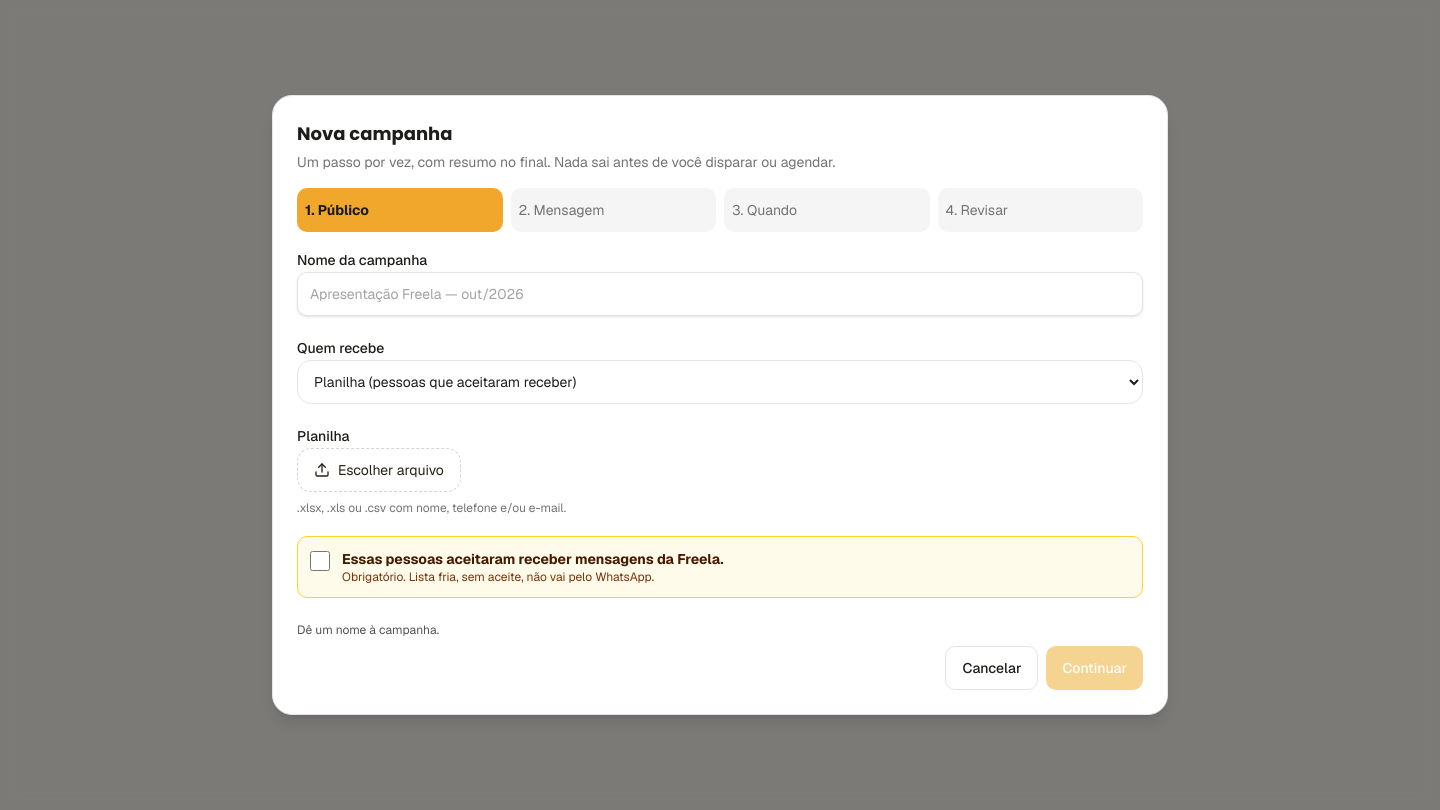
Test: CampaignWizard › planilha: não segue sem a lista conferida e sem a caixa de aceite
This screenshot has width=1440, height=810.
Step 1. Type "Lista feira" into the field labelled "Nome da campanha" → (720, 294), box left=297, top=272, right=1143, bottom=316
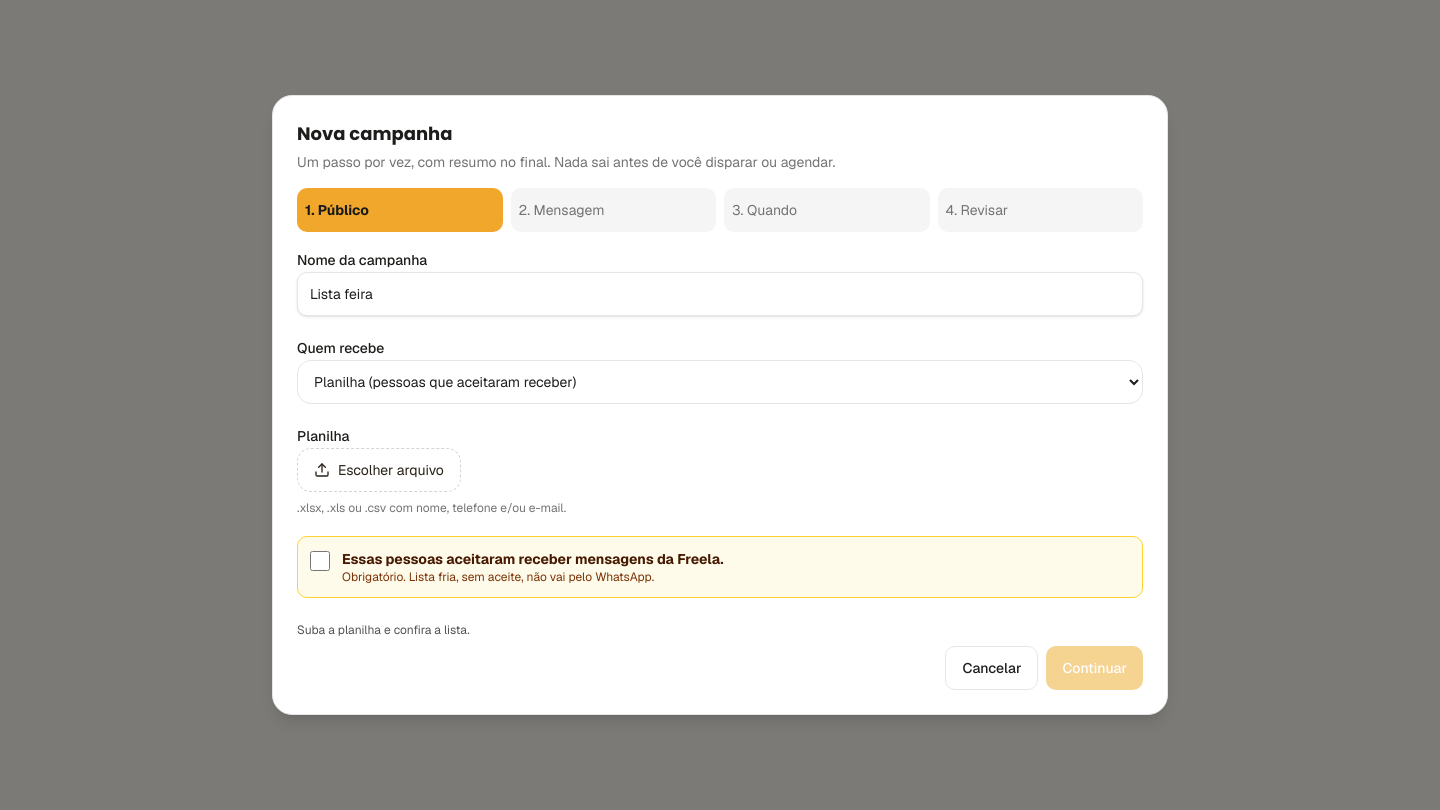
Expected: the button "Continuar" is disabled, left=1046, top=646, right=1143, bottom=690
Expected: the text with test id "step-blocker" reads "Suba a planilha e confira a lista.", left=297, top=622, right=470, bottom=638
